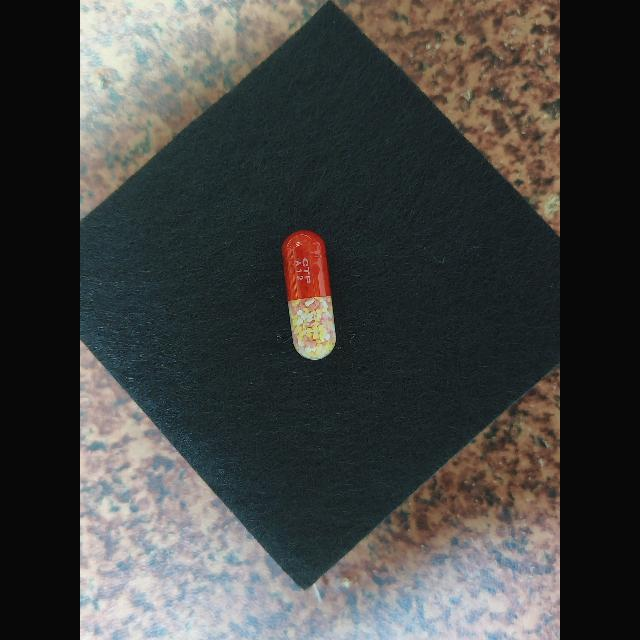Intact Capsule: (282, 230, 336, 360)
